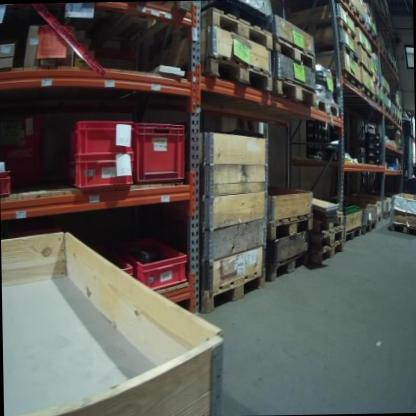pallet: (177, 58, 272, 96), (201, 6, 273, 51), (197, 269, 265, 312), (293, 16, 356, 46), (271, 74, 319, 106), (269, 245, 310, 281), (268, 213, 312, 245), (274, 35, 315, 69), (313, 44, 359, 66), (318, 71, 360, 95), (314, 226, 344, 249), (315, 241, 344, 264), (347, 84, 375, 104), (316, 213, 343, 233), (316, 100, 343, 118), (346, 221, 363, 245), (361, 219, 379, 240), (376, 79, 392, 101), (393, 225, 416, 239), (374, 211, 386, 228), (379, 104, 390, 118), (373, 98, 384, 111)
small_load_carrier: (117, 244, 187, 289), (134, 122, 185, 182), (66, 122, 134, 160), (87, 239, 134, 289), (65, 159, 135, 190), (1, 164, 10, 197), (386, 163, 399, 170)
